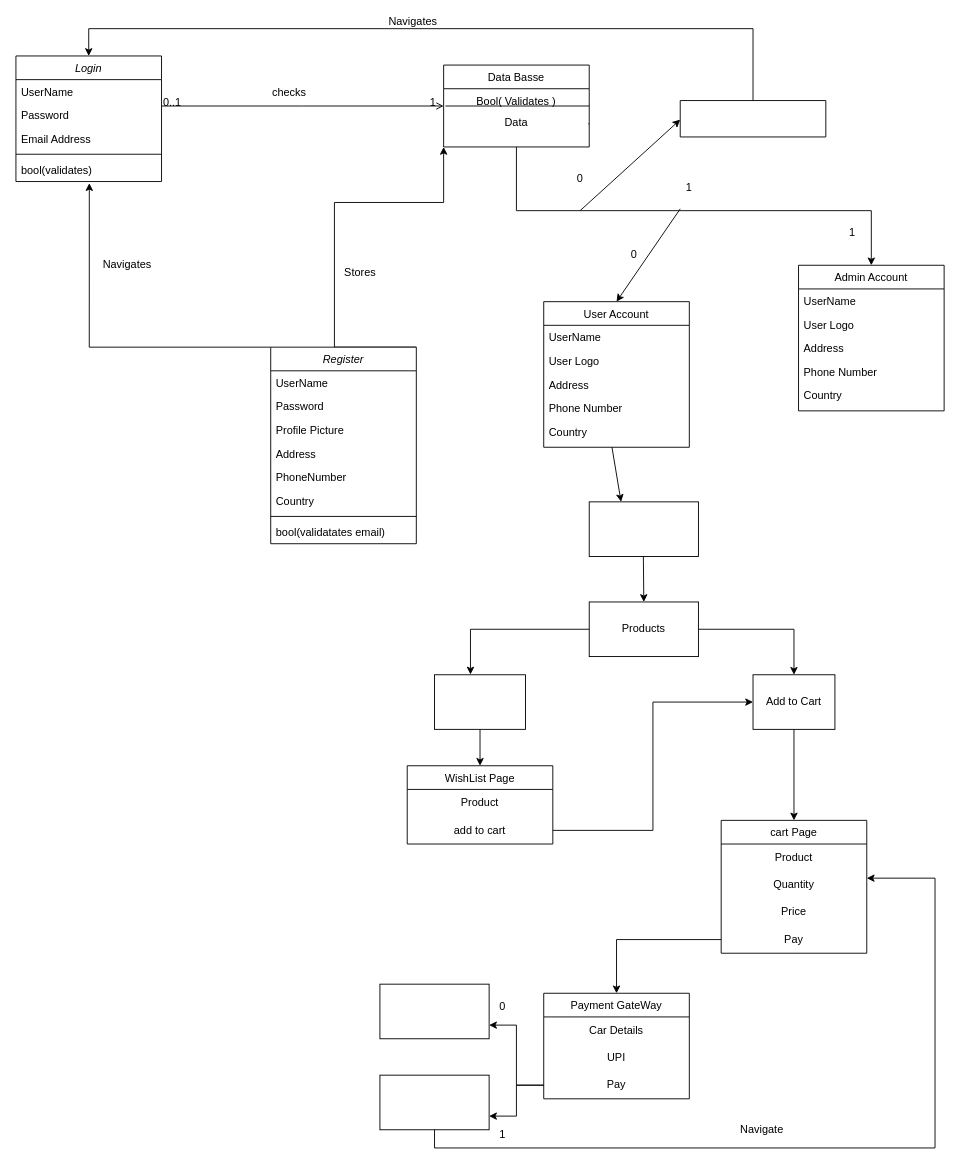
Some shapes in this 960 by 1172 pixel diagram are drawn without their labels. Here are the shapes that lost their labels. From the top down, the centre of each, then its label:
At pixel 752 118: "Invalid Credentials".
At pixel 643 528: "Website Preview".
At pixel 480 701: "Wishlist".
At pixel 434 1011: "Payment Successful".
At pixel 434 1102: "Payment Rejected".
